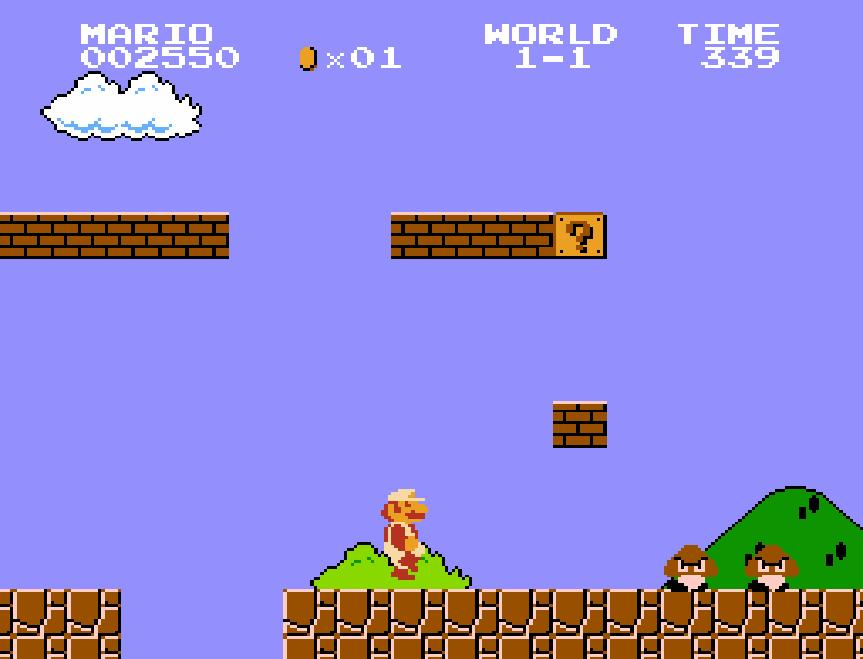fire_mario: (376, 484, 434, 582)
